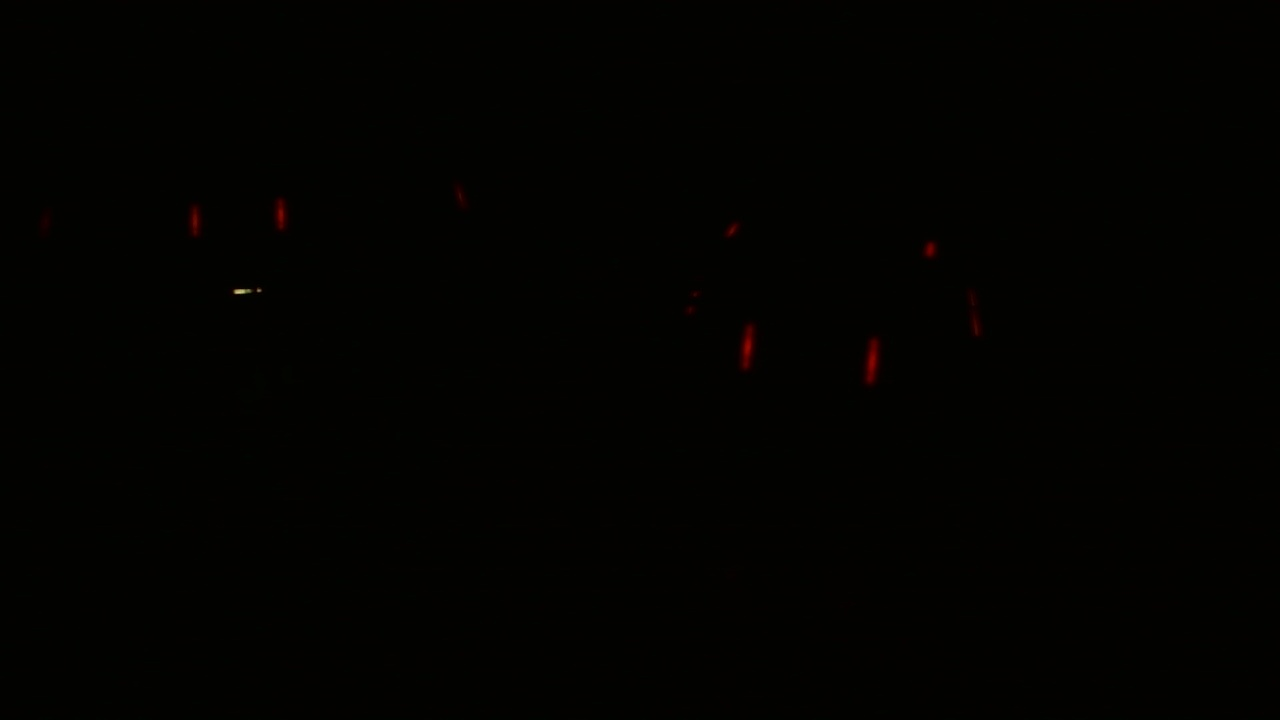pair1: (181, 187, 298, 247)
pair2: (725, 316, 893, 395)
